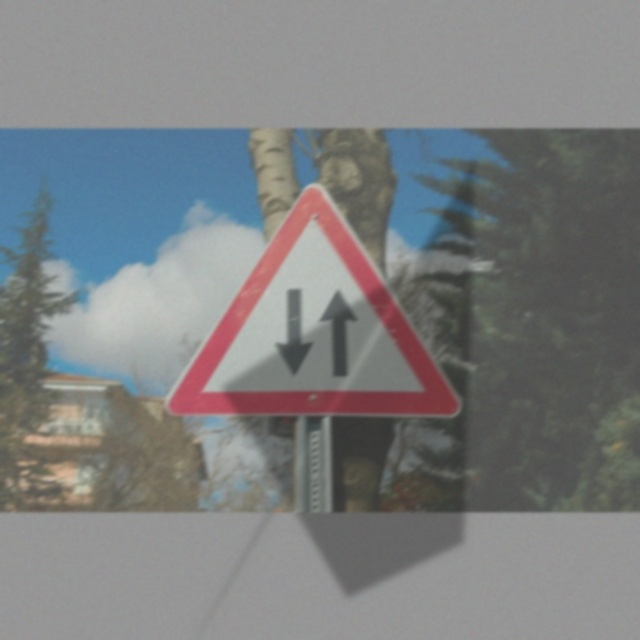Mandatory_Two_Way_Traffic: (166, 184, 462, 422)
